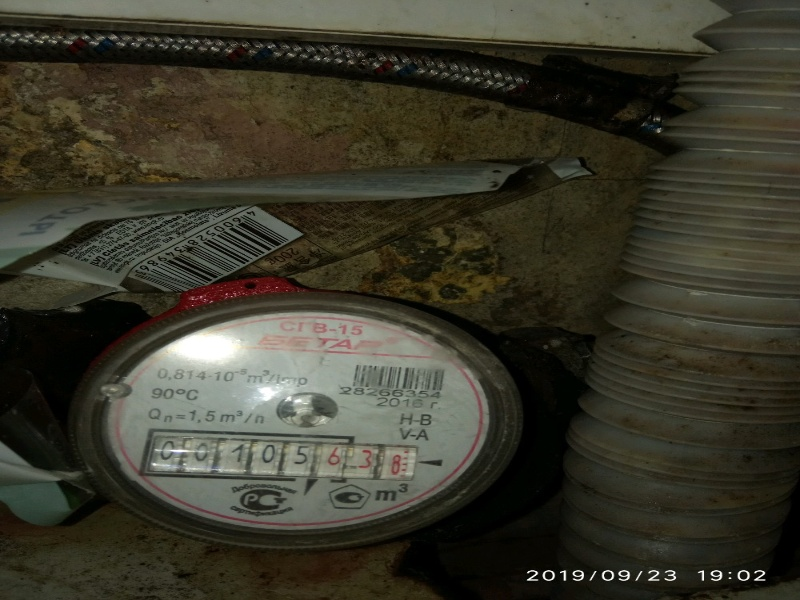meter: (145, 436, 410, 475)
